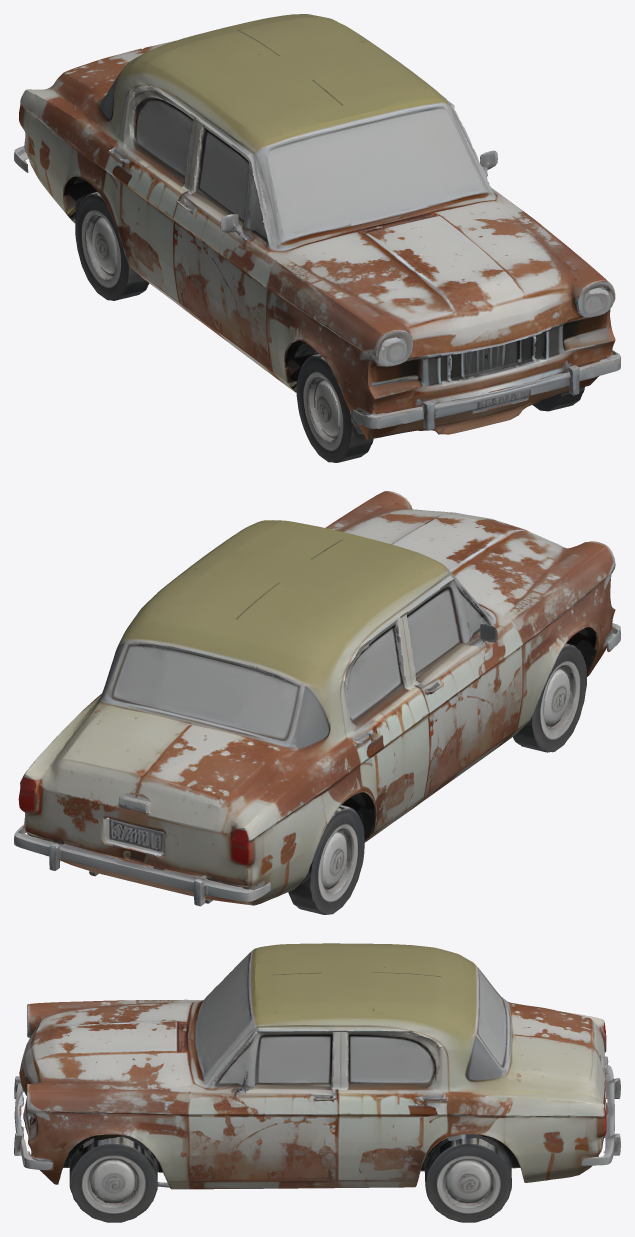
Rendered from rusty_vintage_car.glb.
3 renders of one model, top to bottom at view 1: azimuth 30°, elevation 25°; view 2: azimuth 150°, elevation 25°; view 3: azimuth 270°, elevation 25°, orthographic. The views are drawn at different scales.
Parts seen in each view (by area): view 1: Object_2; view 2: Object_2; view 3: Object_2.
Part boxes in pixels (x1,y1,x2,y2): Object_2: (14, 14, 620, 462); Object_2: (14, 491, 620, 914); Object_2: (14, 943, 620, 1222).
Size of the model in its own units: 0.7975 by 0.703 by 1.89.
Materials: 1 (1 with a texture image).
